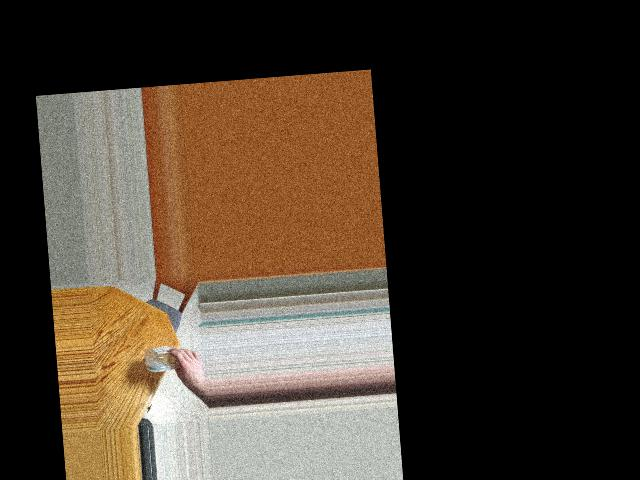cheese: (139, 338, 188, 382)
